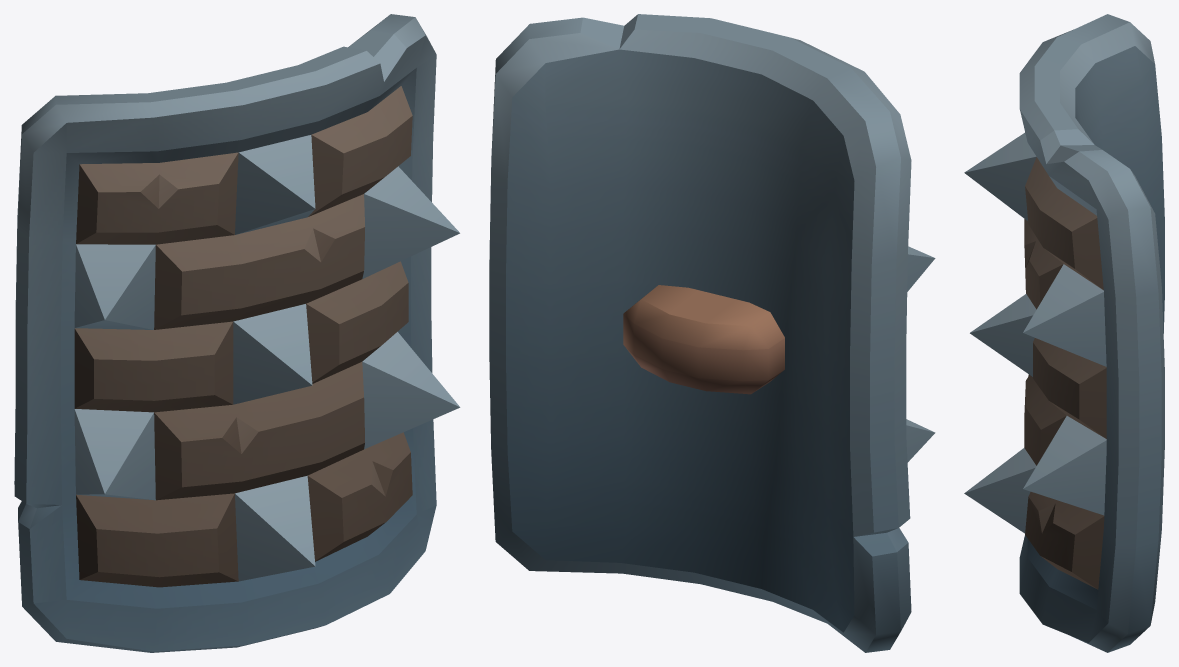
The model's file is shield_C.fbx.
The picture shows the model from 3 angles, left to right: view 1: azimuth 30°, elevation 25°; view 2: azimuth 150°, elevation 25°; view 3: azimuth 270°, elevation 25°; orthographic projection. The views are drawn at different scales.
Parts seen in each view (by area): view 1: shield_C; view 2: shield_C; view 3: shield_C.
Boxes of the visible parts, x1,y1,x2,y2 form: shield_C: (14,14,460,652); shield_C: (489,14,935,652); shield_C: (964,14,1164,652).
Size of the model in its own units: 1.02 by 1.33 by 0.4847.
